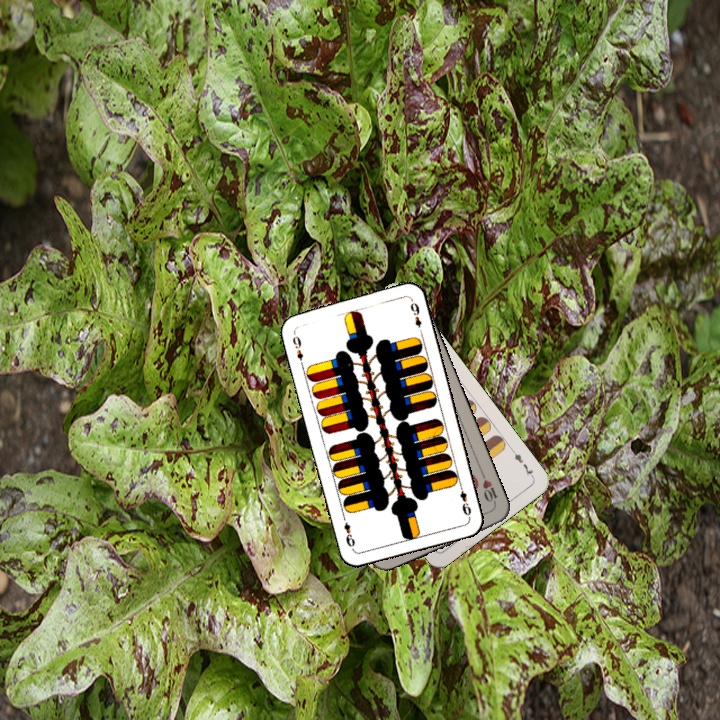E7: (508, 445, 537, 480)
E9: (455, 480, 474, 520), (288, 329, 306, 369)
H10: (477, 469, 500, 509)
